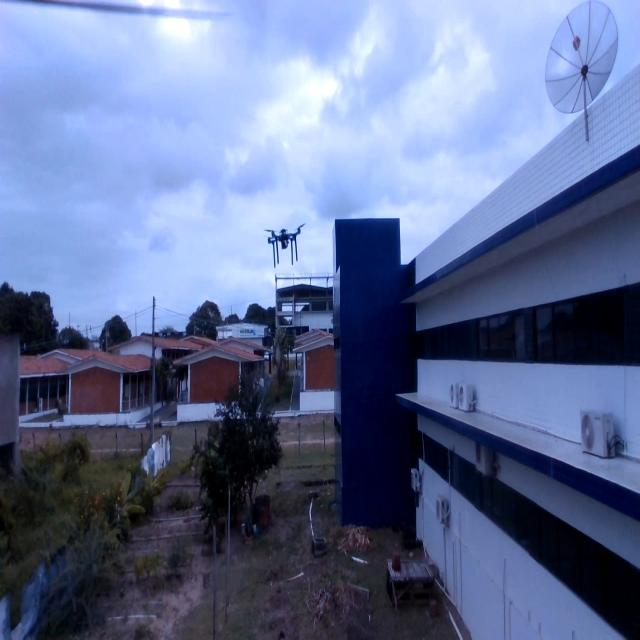-uav-: (258, 222, 309, 267)
